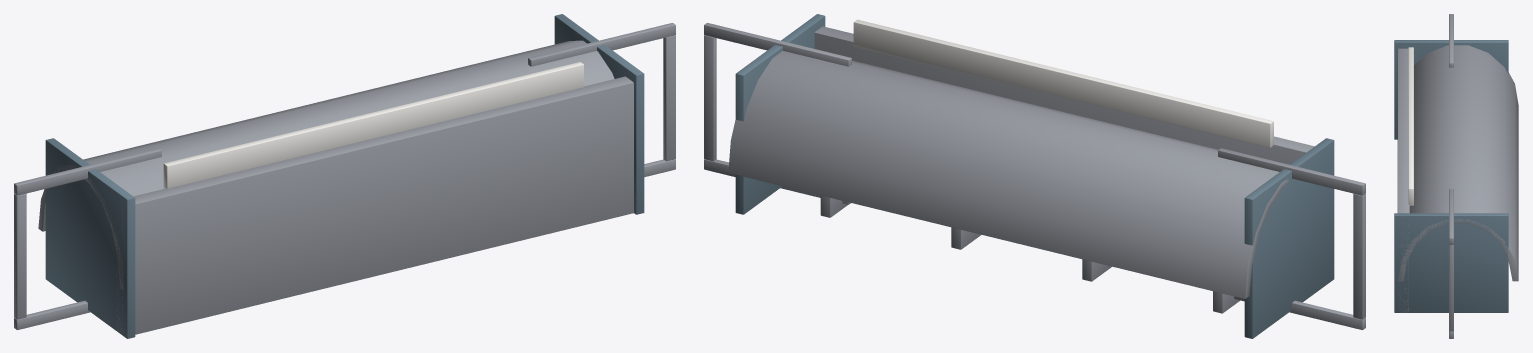
File: th44_ersatzbank.glb
3 views of the same model, side by side, from view 1: azimuth 30°, elevation 25°; view 2: azimuth 150°, elevation 25°; view 3: azimuth 270°, elevation 25° (orthographic). The views are drawn at different scales.
Visible parts, largest first — view 1: Cube.010, Tonnendach, Cube, Cube.022, Cube.005, Cube.001, Cube.006, Cube.003, Cube.009, Cube.002; view 2: Tonnendach, Cube, Cube.022, Cube.010, Cube.005, Cube.001, Cube.006, Cube.003, Cube.009, Cube.002, Cube.007; view 3: Tonnendach, Cube.005, Cube.010, Cube, Cube.022, Cube.009, Cube.006, Cube.001.
Boxes of the visible parts, bbox=[...] form: Cube.010: bbox=[116, 76, 633, 336]; Tonnendach: bbox=[38, 40, 614, 290]; Cube: bbox=[45, 138, 135, 338]; Cube.022: bbox=[163, 62, 583, 188]; Cube.005: bbox=[554, 14, 644, 214]; Cube.001: bbox=[14, 148, 161, 195]; Cube.006: bbox=[528, 23, 675, 66]; Cube.003: bbox=[14, 193, 26, 319]; Cube.009: bbox=[663, 35, 675, 161]; Cube.002: bbox=[14, 300, 90, 329]; Tonnendach: bbox=[728, 51, 1289, 298]; Cube: bbox=[1244, 138, 1334, 338]; Cube.022: bbox=[853, 19, 1273, 147]; Cube.010: bbox=[814, 26, 1324, 286]; Cube.005: bbox=[735, 14, 825, 214]; Cube.001: bbox=[1218, 148, 1365, 195]; Cube.006: bbox=[704, 23, 851, 66]; Cube.003: bbox=[1353, 193, 1365, 319]; Cube.009: bbox=[704, 35, 716, 161]; Cube.002: bbox=[1234, 296, 1365, 329]; Cube.007: bbox=[704, 159, 850, 204]; Tonnendach: bbox=[1398, 45, 1518, 281]; Cube.005: bbox=[1394, 213, 1508, 312]; Cube.010: bbox=[1397, 48, 1409, 312]; Cube: bbox=[1394, 40, 1508, 139]; Cube.022: bbox=[1408, 47, 1413, 205]; Cube.009: bbox=[1449, 245, 1453, 331]; Cube.006: bbox=[1449, 189, 1453, 245]; Cube.001: bbox=[1449, 14, 1453, 67].
Bounding box in the file's own units: 7.9 × 1.86 × 1.85.
